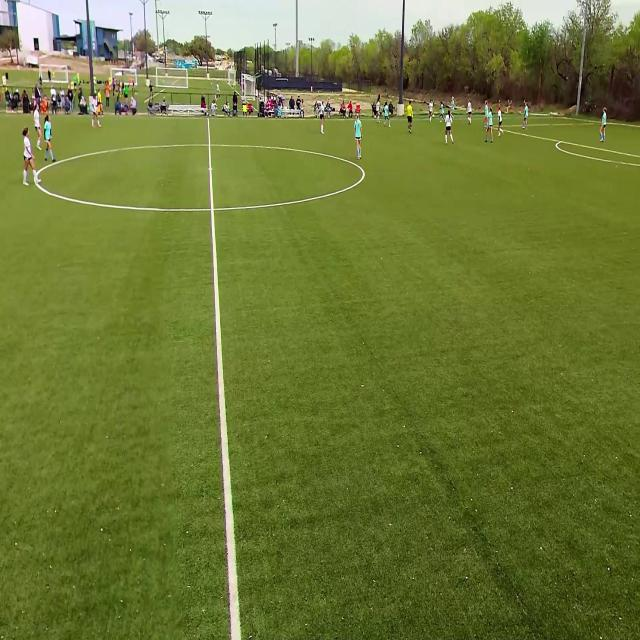ball: (432, 114, 435, 118)
team1: (44, 115, 57, 163), (353, 115, 362, 158), (600, 107, 607, 145), (522, 102, 529, 134), (384, 101, 391, 128), (488, 107, 493, 144), (484, 100, 488, 130), (440, 101, 445, 123), (451, 95, 455, 112)
team2: (22, 128, 38, 188), (91, 93, 102, 129), (34, 105, 43, 145), (445, 110, 454, 146), (319, 100, 326, 134), (374, 98, 382, 124), (498, 105, 504, 138), (427, 99, 434, 125), (468, 102, 475, 127)
